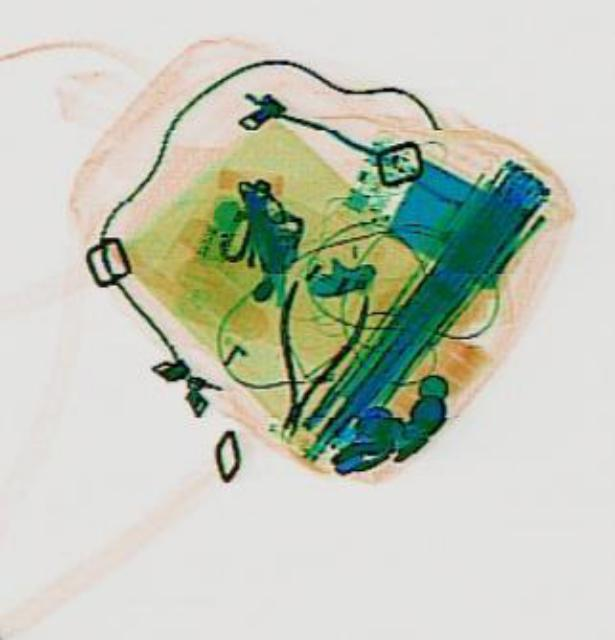Pliers: (241, 272, 370, 448)
